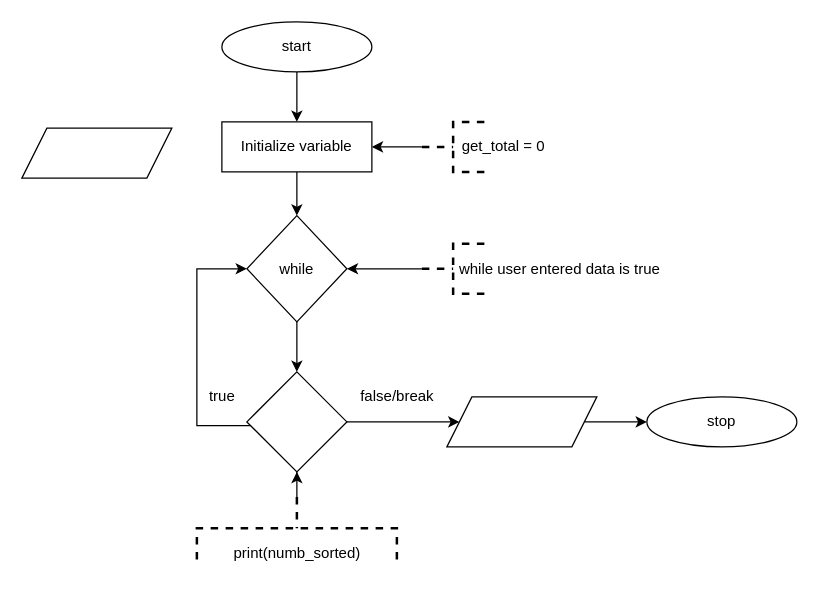
Some shapes in this 819 by 594 pixel diagram are drawn without their labels. Each missing label, with the centre of its shape:
"if" goes at point 296,421.
"input 3 numbers" goes at point 96,152.
"print the get_total" goes at point 521,421.
